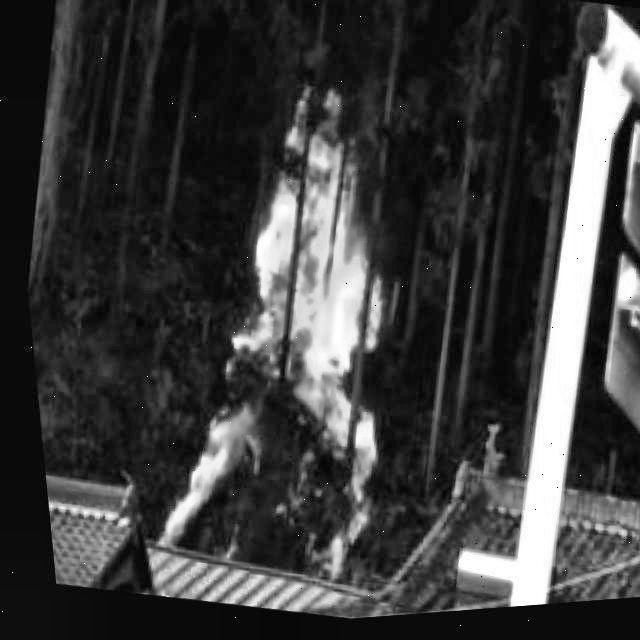Fire: (116, 45, 458, 603)
